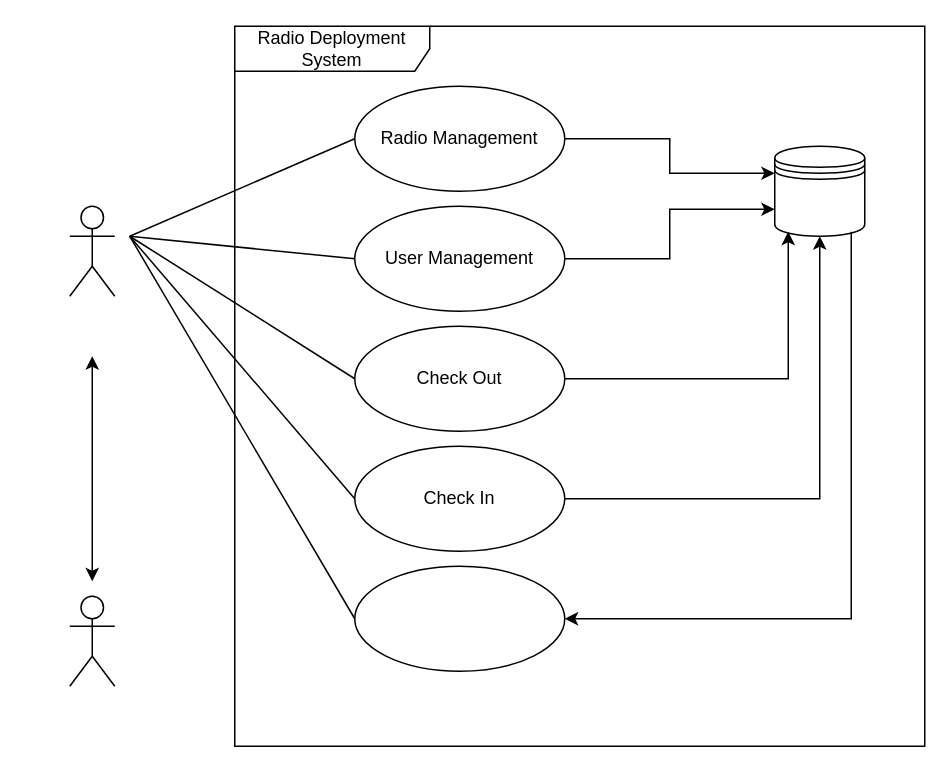
Some shapes in this 951 by 773 pixel diagram are drawn without their labels. Here are the shapes that lost their labels. From the top down, the centre of each, then its label:
[91,250]: Communications Personal
[459,618]: Logs and Reports
[91,640]: Incident Responders
